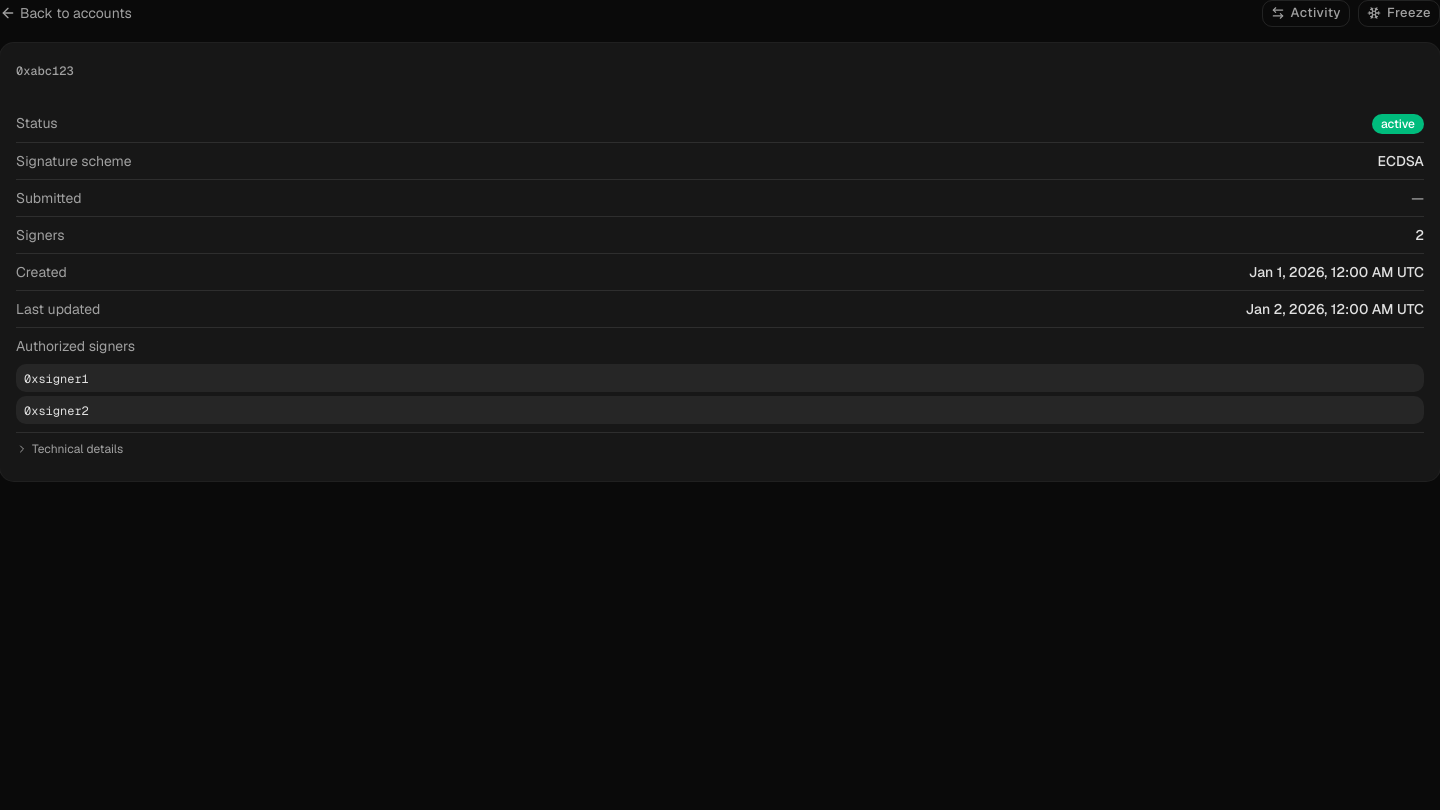
Test: AccountDetail › requires a reason before a freeze can be submitted, and surfaces server failures
This screenshot has width=1440, height=810.
Click the button "Freeze" at (1399, 13), box [1358,0,1439,27]
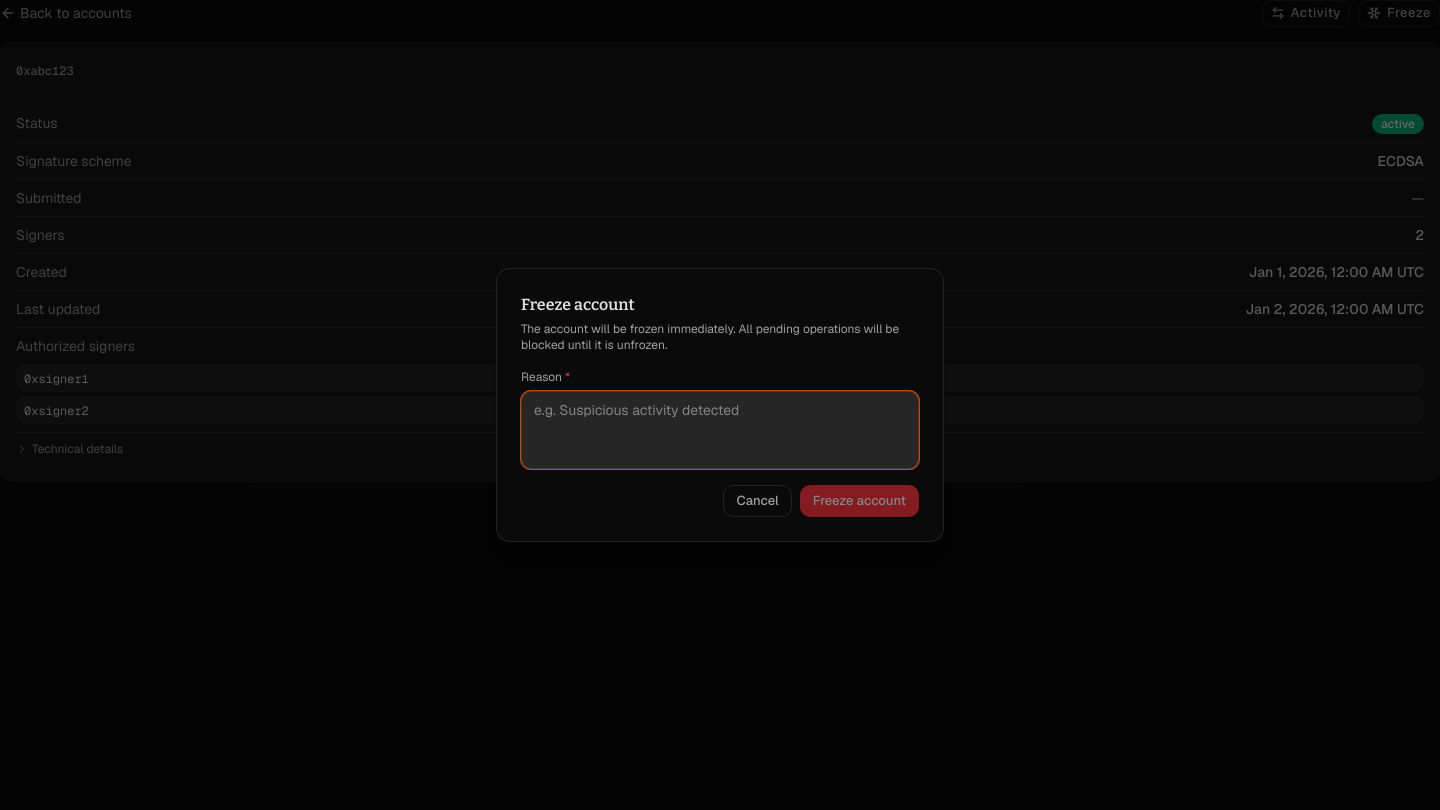
Expected: the heading "Freeze account" is shown, [521,295,635,314]
Expected: the button "Freeze account" is disabled, [800,485,919,517]
Type "incident 42" into the text box with placeholder "e.g. Suspicious activity detected" at (720, 430), box [521,391,919,469]
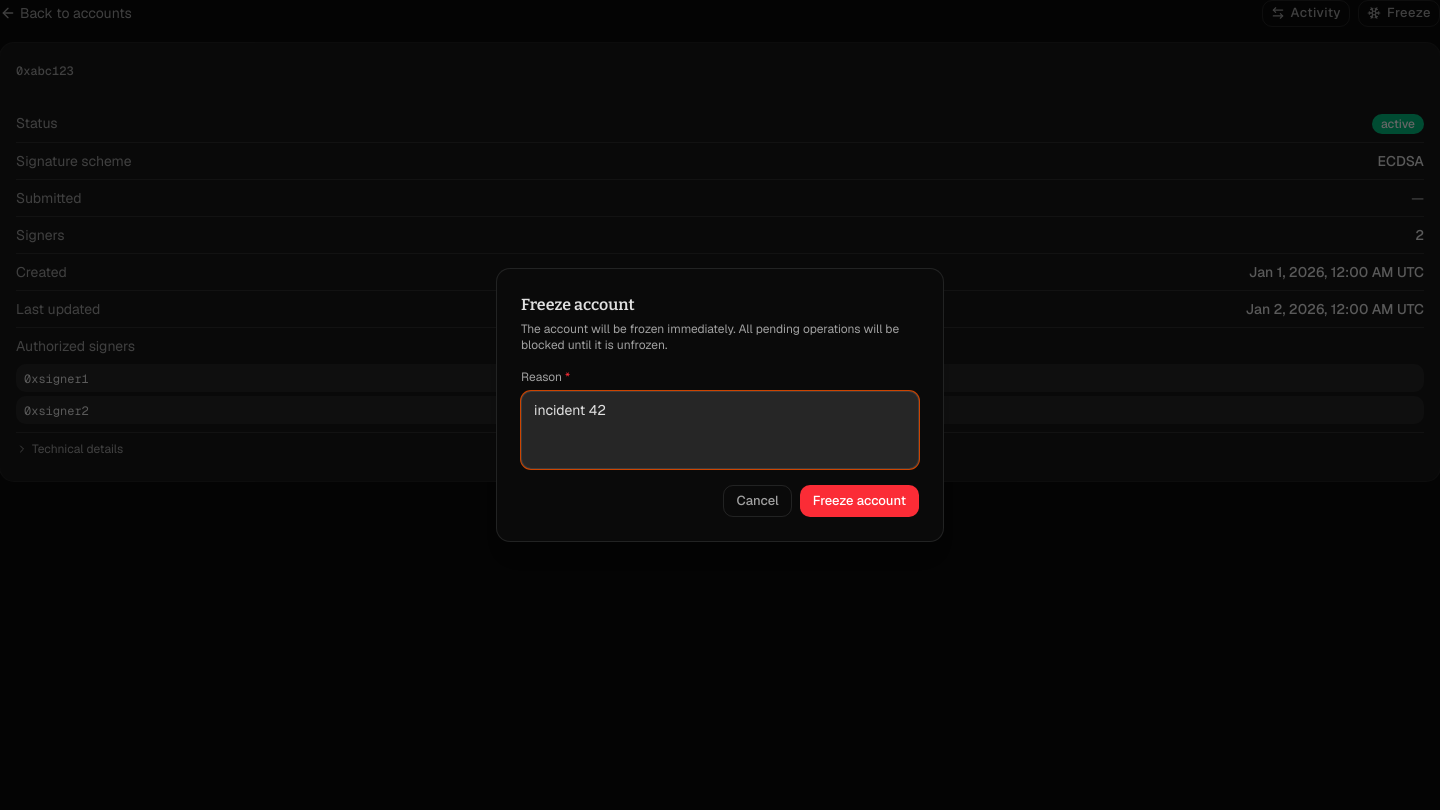
Click the button "Freeze account" at (859, 501), box [800,485,919,517]
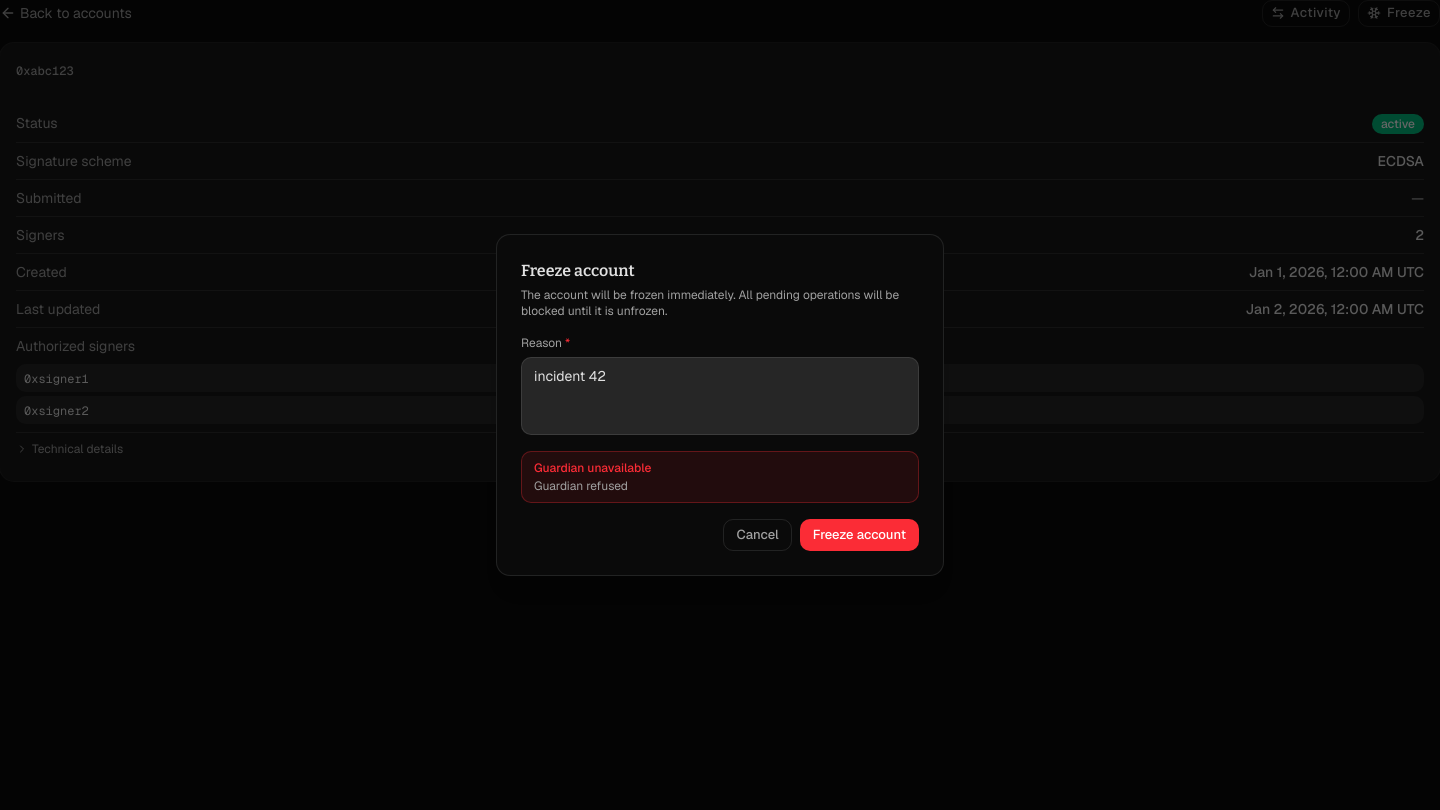
Expected: the text "Guardian refused" is shown, [534,478,628,494]
